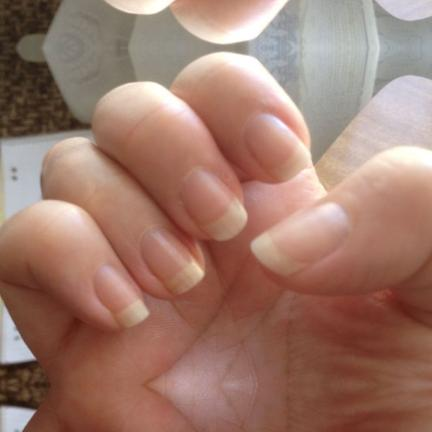Nail: (250, 200, 352, 275), (180, 168, 248, 240), (245, 111, 310, 180), (141, 227, 205, 293), (94, 264, 149, 327)
